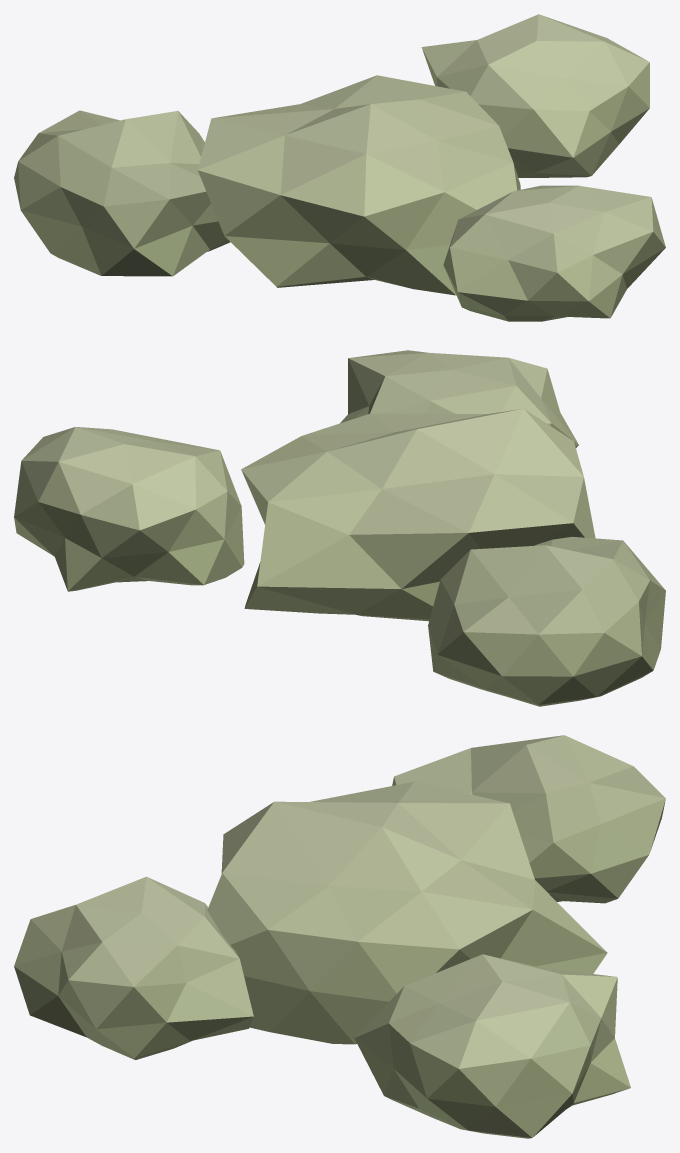
File: LichenTufts_leaf.glb
The picture shows the model from 3 angles, top to bottom: view 1: azimuth 30°, elevation 25°; view 2: azimuth 150°, elevation 25°; view 3: azimuth 270°, elevation 25°; orthographic projection. The views are drawn at different scales.
Visible parts, largest first — view 1: LichenTufts_leaf; view 2: LichenTufts_leaf; view 3: LichenTufts_leaf.
Boxes of the visible parts, <box> form: LichenTufts_leaf: <box>14,14,665,321</box>; LichenTufts_leaf: <box>14,350,665,706</box>; LichenTufts_leaf: <box>14,735,665,1138</box>.
Size of the model in its own units: 3.26 by 0.6758 by 2.71.
